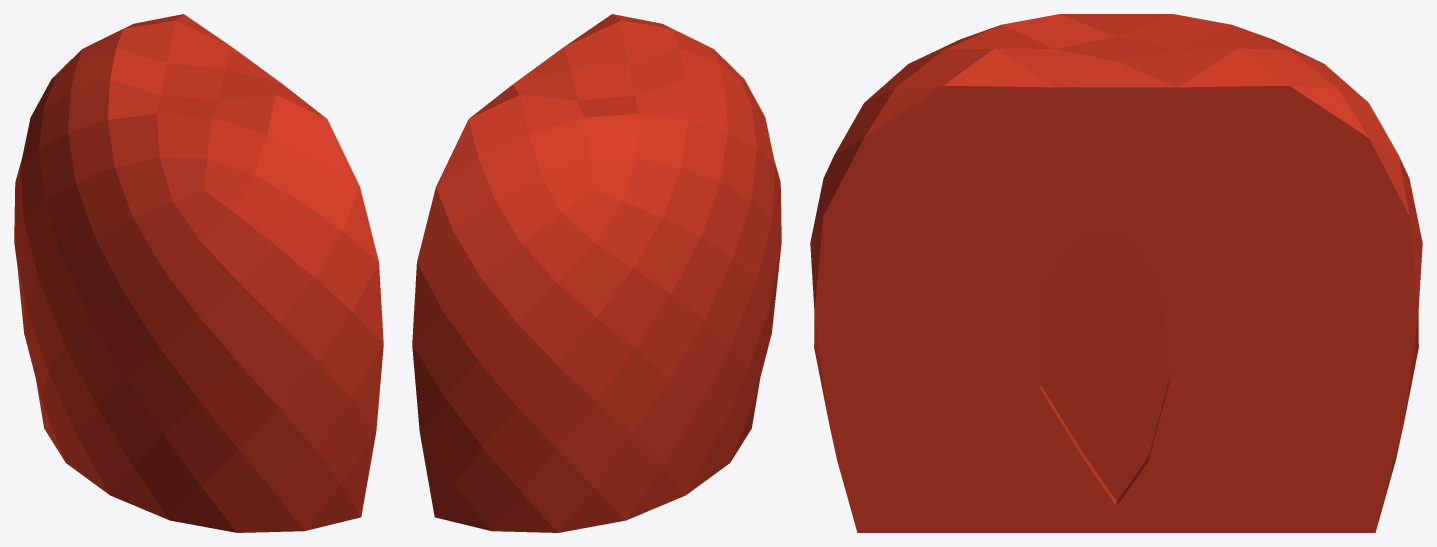
File: strawberry_slice_3.glb
3 views of the same model, side by side, from view 1: azimuth 30°, elevation 25°; view 2: azimuth 150°, elevation 25°; view 3: azimuth 270°, elevation 25° (orthographic). The views are drawn at different scales.
Parts seen in each view (by area): view 1: StrawberrySlice.002; view 2: StrawberrySlice.002; view 3: StrawberrySlice.002.
Boxes of the visible parts, bbox=[...] form: StrawberrySlice.002: bbox=[14, 14, 383, 532]; StrawberrySlice.002: bbox=[412, 14, 781, 532]; StrawberrySlice.002: bbox=[810, 14, 1422, 532].
Bounding box in the file's own units: 1.14 × 2.16 × 2.56.
